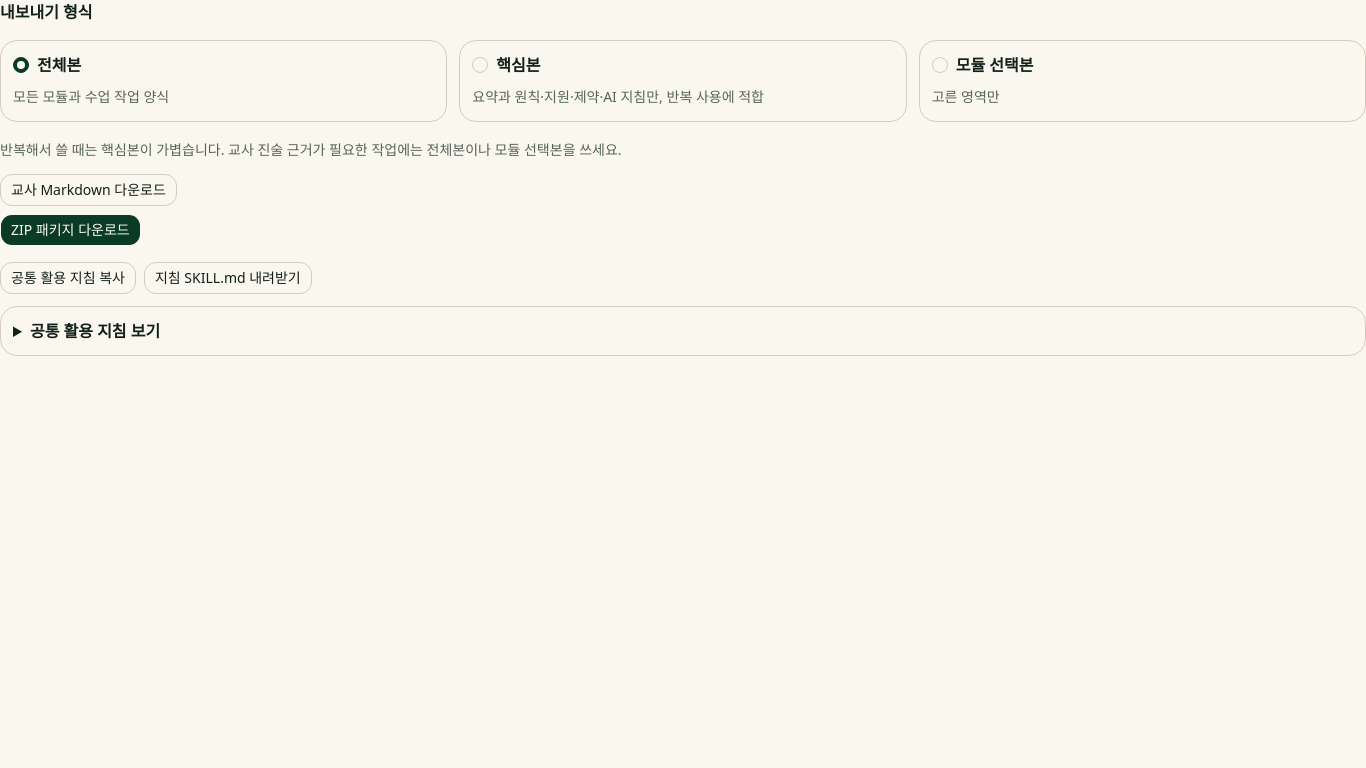
Scenario: records a successful 모듈 선택본 Markdown download with its target and format
The width and height of the screenshot is (1366, 768).
Click the 3rd radio button named "모듈 선택본" at (940, 65), box [932,57,948,73]
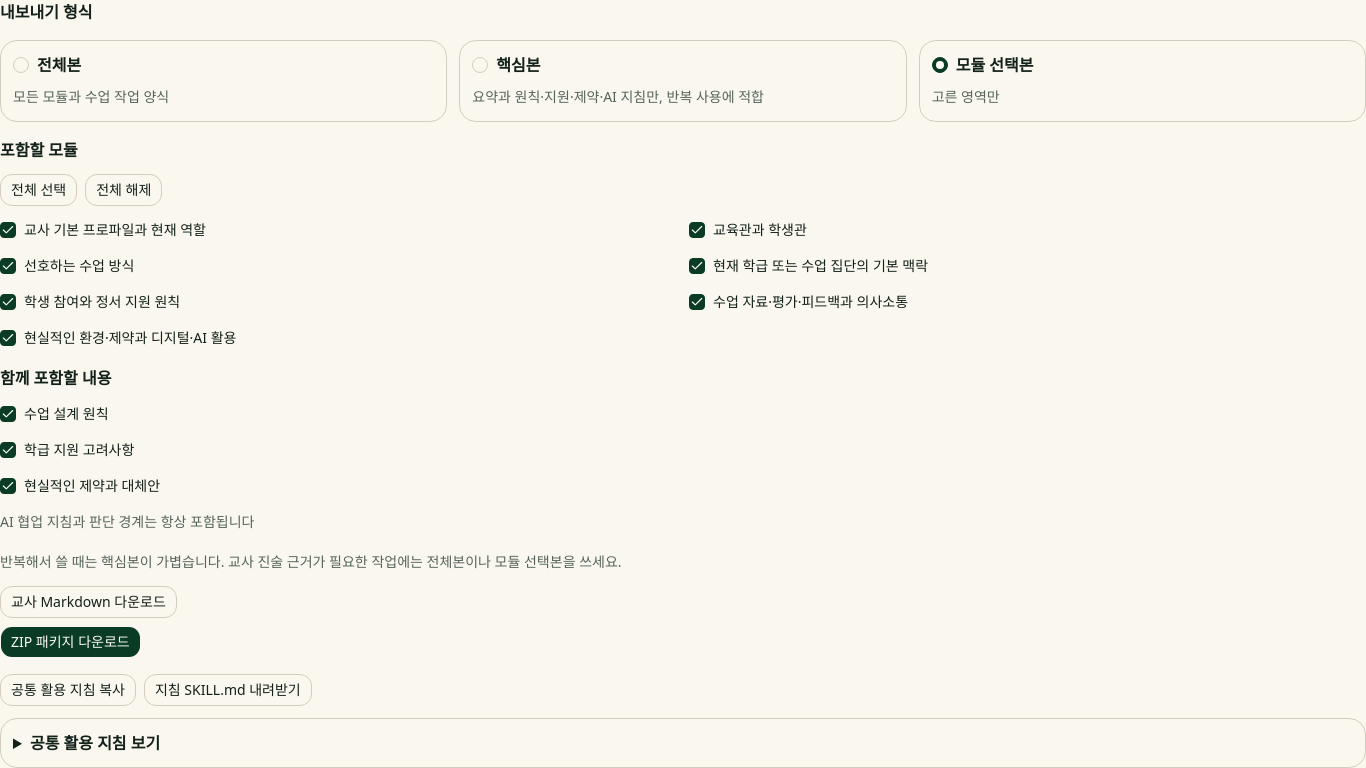
Click the button "교사 Markdown 다운로드" at (88, 602), box [0,586,177,618]
(page scrolled)
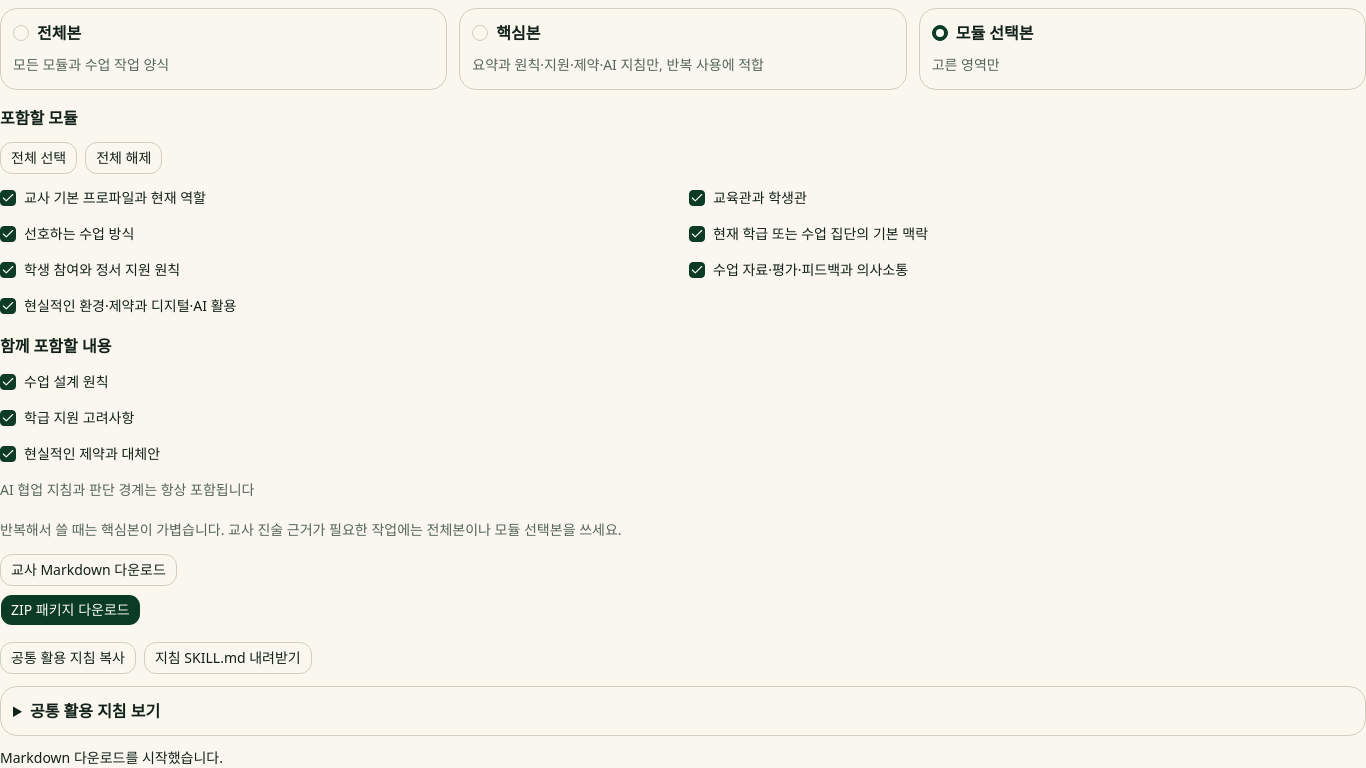
Check: the message reads "Markdown 다운로드를 시작했습니다.", box [0,748,223,767]
